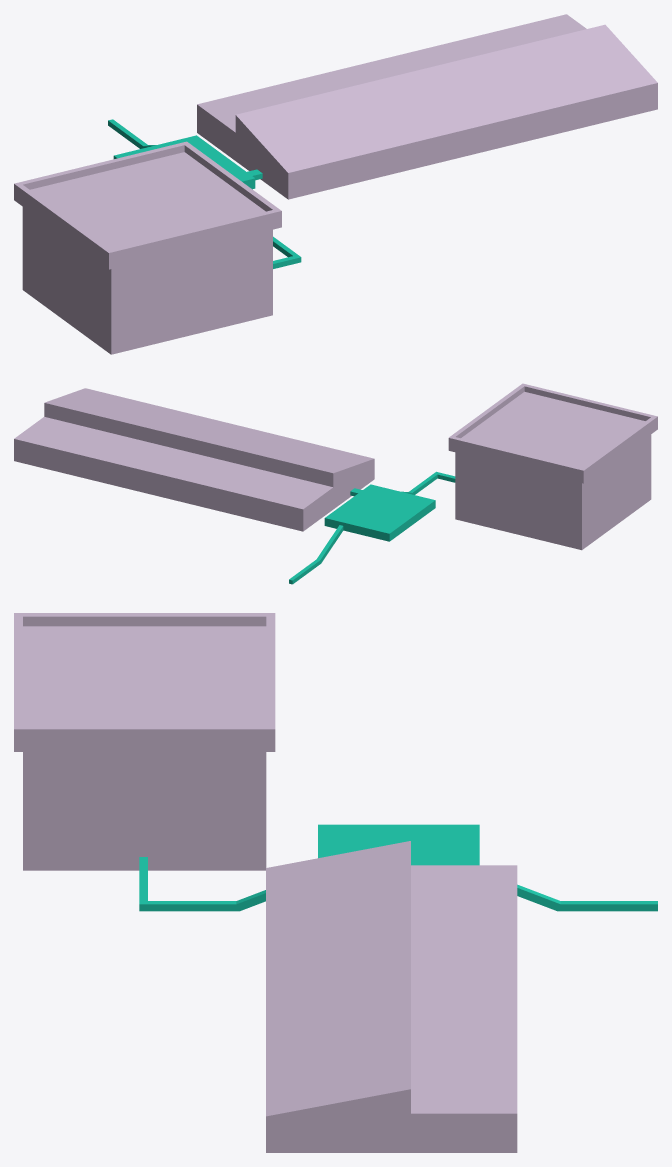
Rendered from blocos-ufc.glb.
The picture shows the model from 3 angles, top to bottom: view 1: azimuth 30°, elevation 25°; view 2: azimuth 150°, elevation 25°; view 3: azimuth 270°, elevation 25°; orthographic projection. The views are drawn at different scales.
Parts seen in each view (by area): view 1: blocos, caminhos; view 2: blocos, caminhos; view 3: blocos, caminhos.
Part boxes in pixels (x1=…): blocos: x1=14, y1=14, x2=657, y2=354; caminhos: x1=108, y1=119, x2=301, y2=268; blocos: x1=14, y1=383, x2=657, y2=550; caminhos: x1=289, y1=471, x2=455, y2=584; blocos: x1=14, y1=613, x2=517, y2=1152; caminhos: x1=139, y1=824, x2=657, y2=911.
Size of the model in its own units: 131 by 20.66 by 83.15.
